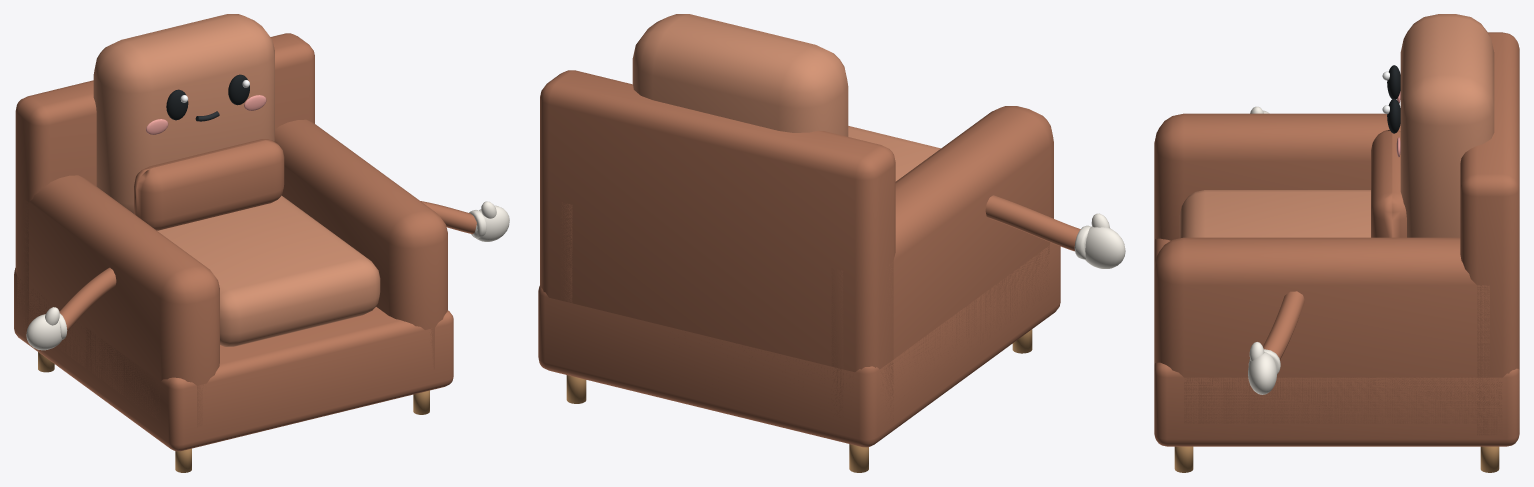
File: armchair-standard.glb
The picture shows the model from 3 angles, left to right: view 1: azimuth 30°, elevation 25°; view 2: azimuth 150°, elevation 25°; view 3: azimuth 270°, elevation 25°; orthographic projection. The views are drawn at different scales.
Parts seen in each view (by area): view 1: Upholstery.003, Arm_L.003, Arm_R.003, Legs.003; view 2: Upholstery.003, Arm_L.003, Legs.003; view 3: Upholstery.003, Arm_R.003, Legs.003, Sphere.033, Sphere.030.
Boxes of the visible parts, bbox=[...] form: Upholstery.003: bbox=[14, 14, 453, 451]; Arm_L.003: bbox=[26, 267, 116, 350]; Arm_R.003: bbox=[421, 201, 509, 241]; Legs.003: bbox=[38, 352, 429, 472]; Upholstery.003: bbox=[538, 14, 1060, 447]; Arm_L.003: bbox=[985, 195, 1125, 268]; Legs.003: bbox=[566, 329, 1032, 472]; Upholstery.003: bbox=[1154, 14, 1519, 446]; Arm_R.003: bbox=[1248, 291, 1304, 394]; Legs.003: bbox=[1174, 446, 1499, 472]; Sphere.033: bbox=[1387, 98, 1400, 133]; Sphere.030: bbox=[1387, 65, 1400, 99].
Bounding box in the file's own units: 1.46 × 0.93 × 0.86.
